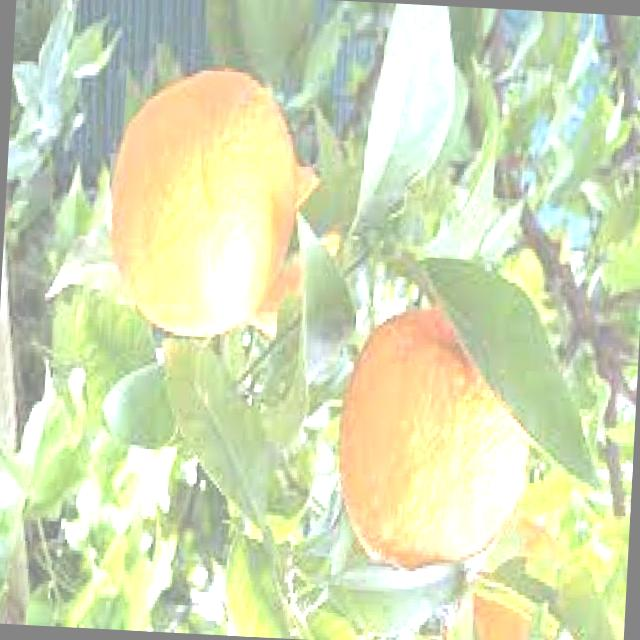Orange: (333, 305, 538, 581), (104, 66, 306, 346)
